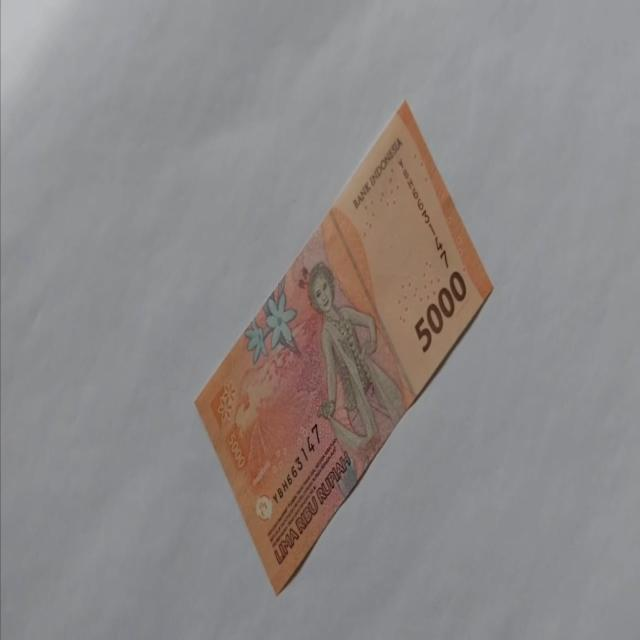lima ribu rupiah: (193, 99, 493, 596)
